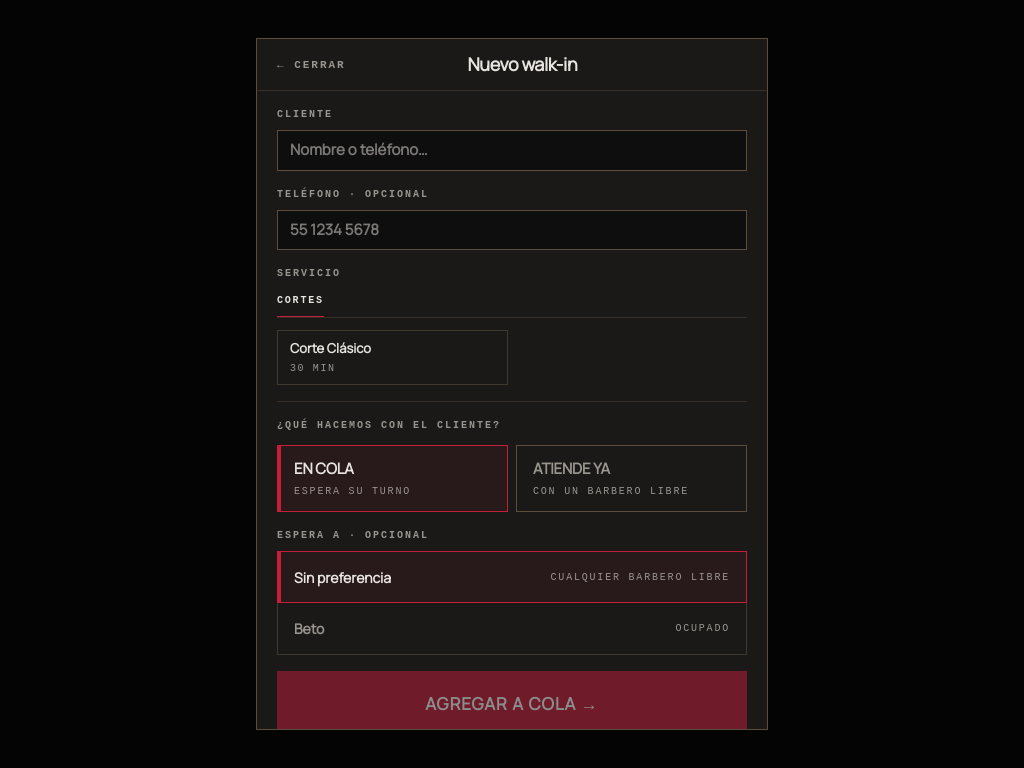
Scenario: AddWalkInSheet › cambiar a "Atiende ya" limpia la selección si el barbero está ocupado
# En cola, un ocupado ES elegible como preferencia (el cliente puede esperar).
Click the button "Beto ocupado": (309, 629) [277, 603, 747, 655]
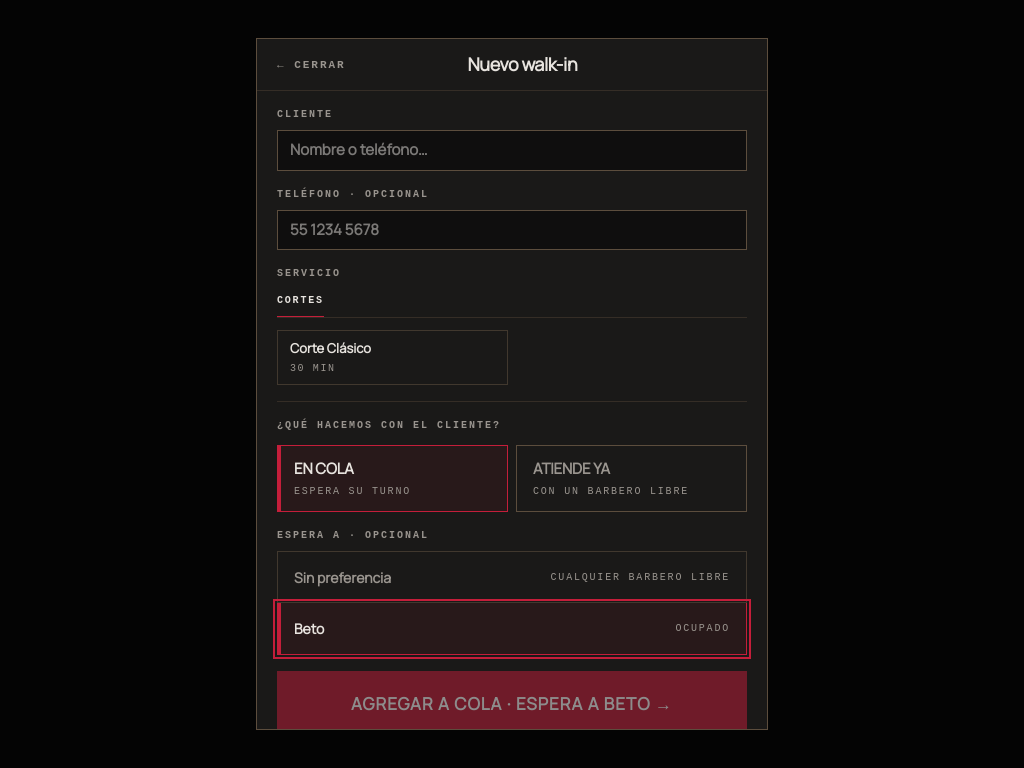
Result: the button "Agregar a cola · espera a Beto →" is shown at [277, 671, 747, 730]
# Al pasar a "Atiende ya" el ocupado deja de ser elegible → se suelta.
Click the button "Atiende ya Con un barbero libre": (632, 479) [516, 445, 747, 512]
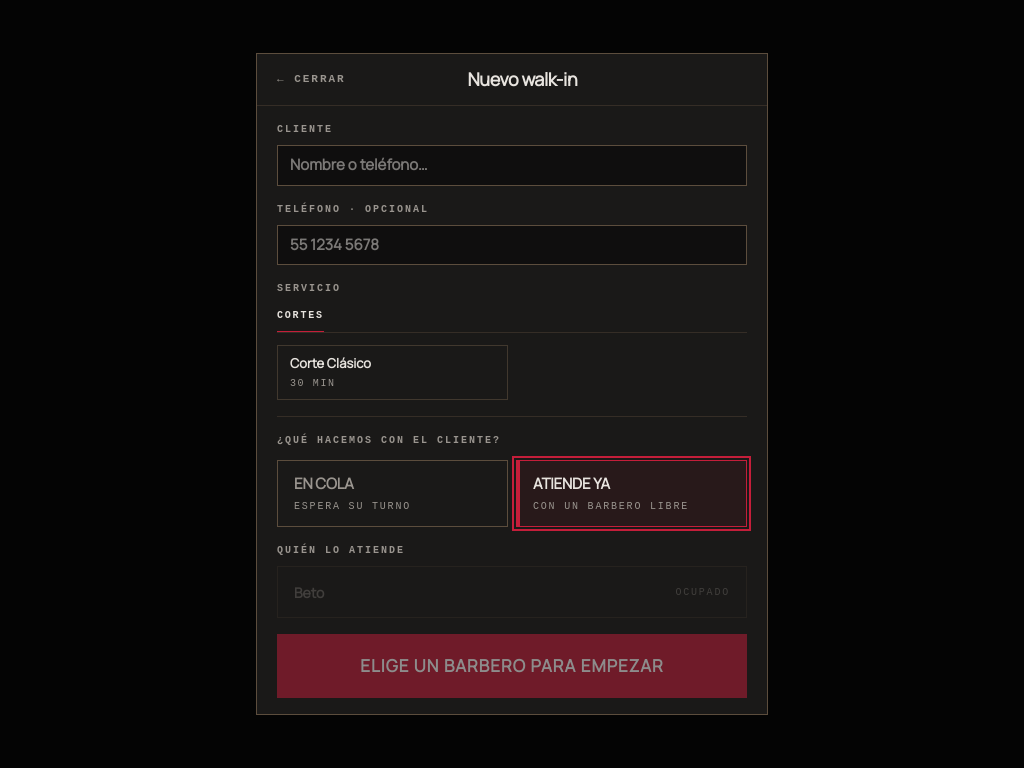
Result: the button "Elige un barbero para empezar" is shown at [277, 634, 747, 698]
